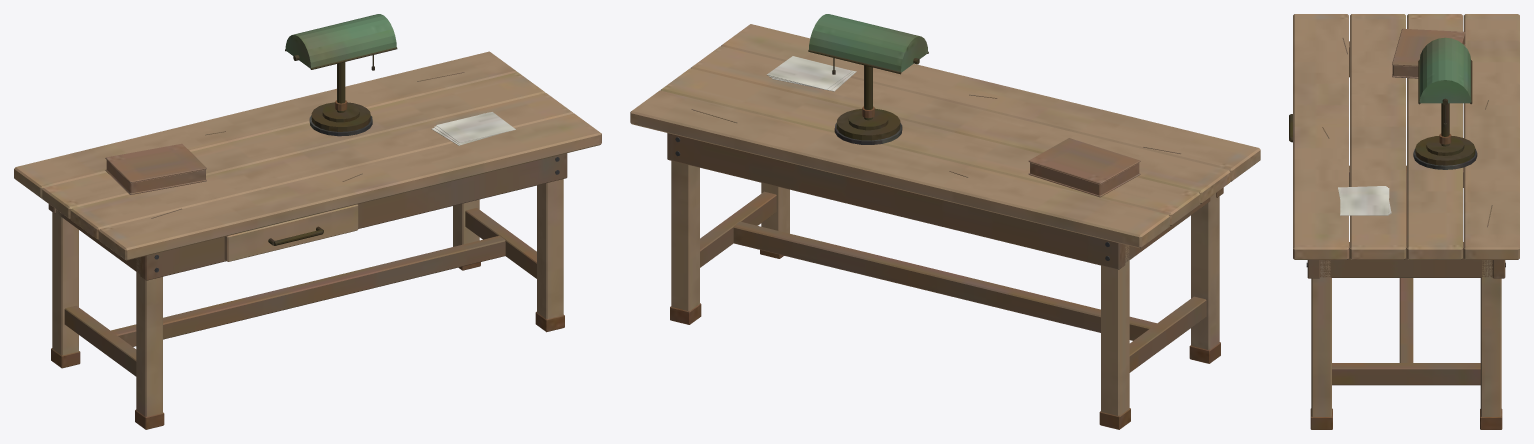
Rendered from Q12_reading_table.glb.
The picture shows the model from 3 angles, left to right: view 1: azimuth 30°, elevation 25°; view 2: azimuth 150°, elevation 25°; view 3: azimuth 270°, elevation 25°; orthographic projection. The views are drawn at different scales.
Parts seen in each view (by area): view 1: Individual tabletop board; view 2: Individual tabletop board; view 3: Individual tabletop board.
Part boxes in pixels (box(x1,y1,x2,y2)): Individual tabletop board: box(14, 14, 601, 429); Individual tabletop board: box(630, 14, 1260, 429); Individual tabletop board: box(1289, 14, 1519, 429).
Size of the model in its own units: 2 by 1.17 by 0.8311.
10 materials, 9 textured.
